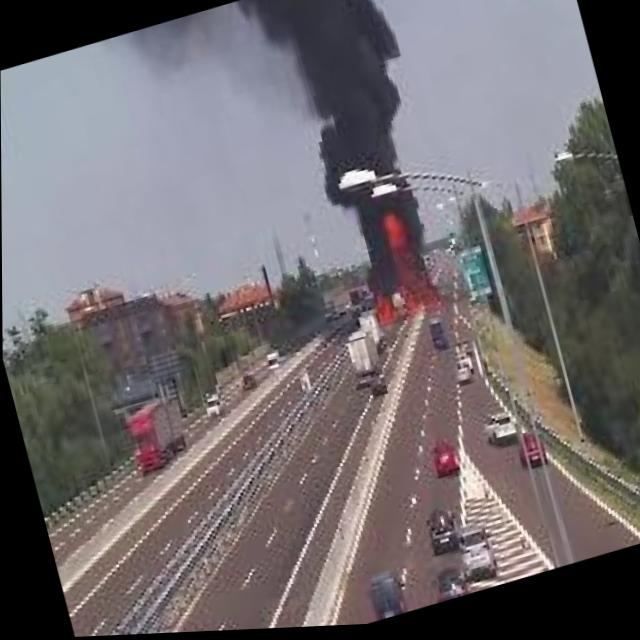fire: (349, 199, 445, 335)
